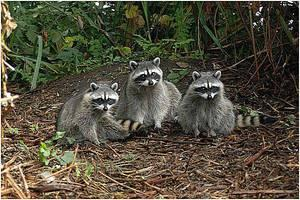raccoon: (58, 60, 239, 155)
